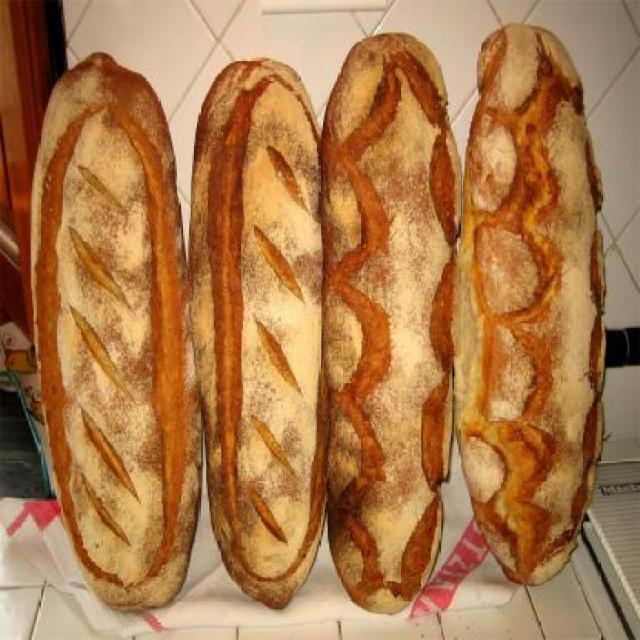Bread: (28, 45, 204, 610), (316, 29, 462, 617), (456, 34, 601, 588), (186, 58, 326, 610)
